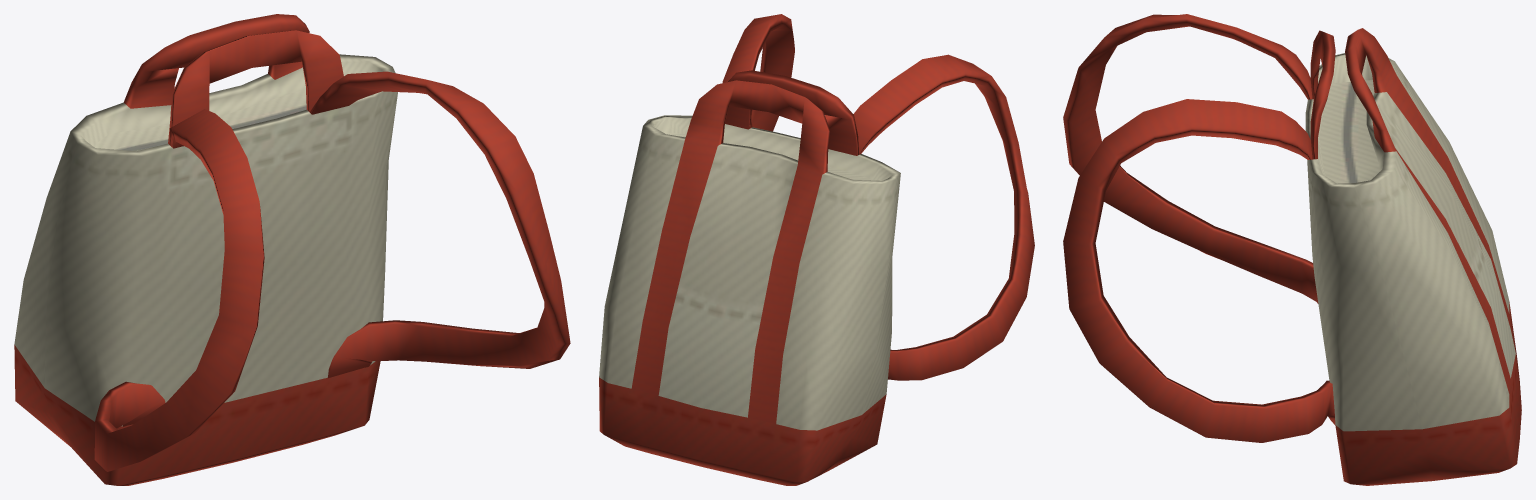
File: BagBackpackTote0.glb
3 renders of one model, left to right at view 1: azimuth 30°, elevation 25°; view 2: azimuth 150°, elevation 25°; view 3: azimuth 270°, elevation 25°, orthographic. The views are drawn at different scales.
Parts seen in each view (by area): view 1: Body__mBag; view 2: Body__mBag; view 3: Body__mBag.
Boxes of the visible parts, x1=… form: Body__mBag: x1=14, y1=14, x2=570, y2=485; Body__mBag: x1=599, y1=14, x2=1034, y2=485; Body__mBag: x1=1063, y1=14, x2=1521, y2=485.
Bounding box in the file's own units: 3.59 × 3.58 × 3.78.
Materials: 1 (1 with a texture image).
